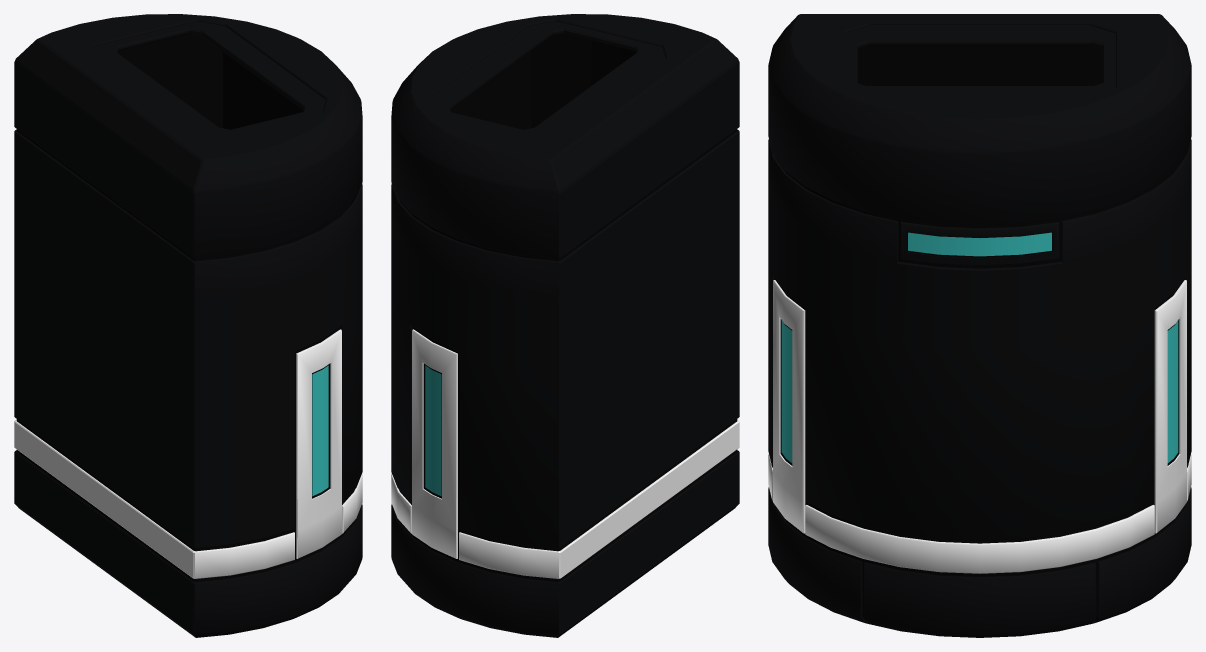
The model's file is SM_Trash_Bin.obj.
3 renders of one model, left to right at view 1: azimuth 30°, elevation 25°; view 2: azimuth 150°, elevation 25°; view 3: azimuth 270°, elevation 25°, orthographic. The views are drawn at different scales.
Parts seen in each view (by area): view 1: SM_Trash_Bin; view 2: SM_Trash_Bin; view 3: SM_Trash_Bin.
Boxes of the visible parts, x1=… form: SM_Trash_Bin: x1=14, y1=14, x2=362, y2=637; SM_Trash_Bin: x1=391, y1=14, x2=739, y2=637; SM_Trash_Bin: x1=768, y1=14, x2=1191, y2=637.
Bounding box in the file's own units: 0.4148 × 0.8 × 0.6.
